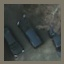car: (20, 18, 44, 50), (4, 24, 24, 58)
